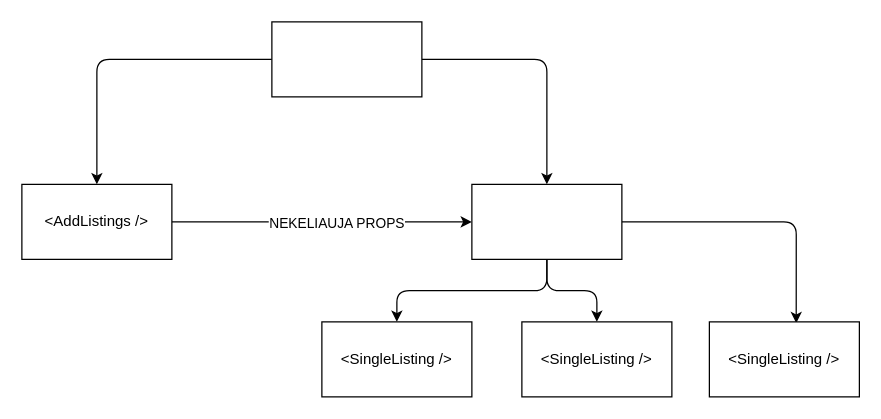
This 881x419 diagram has some shape labels left out. The centre of each missing label's shape, as x and y in pixels:
<LIstingList/>: (x=546, y=221)
<ListingPage />: (x=346, y=59)
